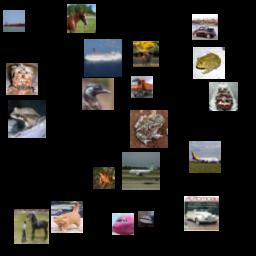airplane: (122, 152, 160, 190), (189, 141, 221, 173), (112, 213, 134, 235)
automobile: (184, 196, 219, 231), (192, 14, 218, 40)
bird: (82, 78, 114, 110)
cat: (51, 201, 83, 233)
deer: (133, 41, 159, 67)
dog: (6, 63, 38, 95)
frog: (130, 110, 168, 148), (8, 100, 46, 138), (193, 47, 225, 79), (93, 167, 115, 189)
ship: (84, 39, 122, 77), (209, 82, 238, 111), (3, 10, 25, 32), (138, 211, 154, 227)
truck: (131, 76, 153, 98)
